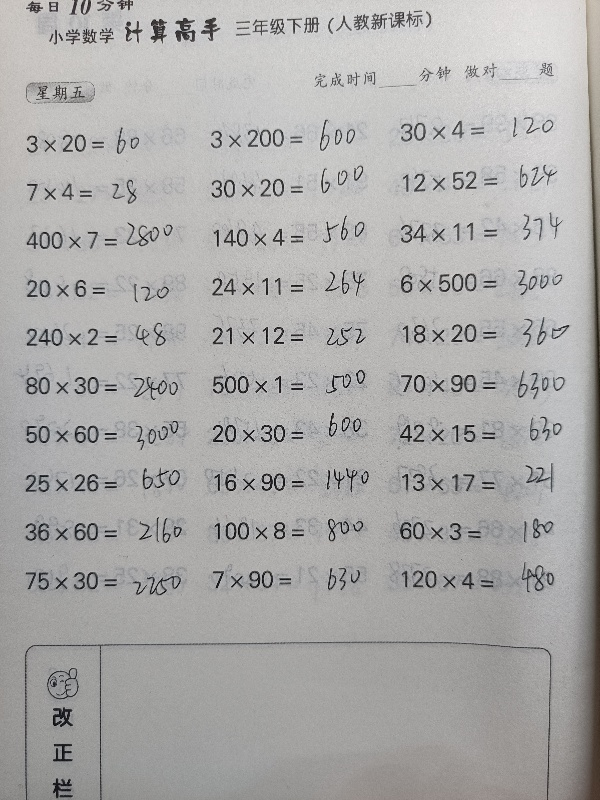equation: (18, 123, 198, 165), (17, 215, 197, 256), (204, 417, 384, 452), (391, 265, 571, 300), (394, 163, 574, 198), (17, 564, 197, 598), (17, 514, 197, 548), (391, 514, 571, 548), (206, 514, 386, 548), (17, 466, 197, 500), (17, 369, 197, 403), (204, 368, 384, 402), (393, 367, 573, 401), (203, 318, 383, 352), (393, 316, 573, 350), (204, 270, 384, 304), (206, 221, 386, 255), (391, 215, 571, 249), (202, 171, 382, 205), (202, 121, 382, 155), (392, 113, 572, 147), (392, 563, 572, 596), (205, 562, 385, 595), (394, 466, 574, 499), (205, 466, 385, 499), (18, 418, 198, 451), (391, 417, 571, 450), (18, 321, 198, 354), (19, 272, 199, 305), (20, 172, 161, 210)
